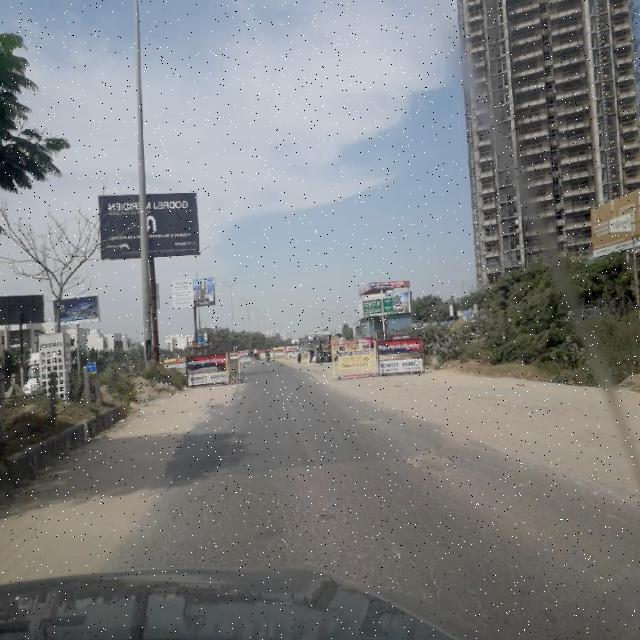D20: (100, 447, 616, 616)
D40: (392, 437, 469, 479)
